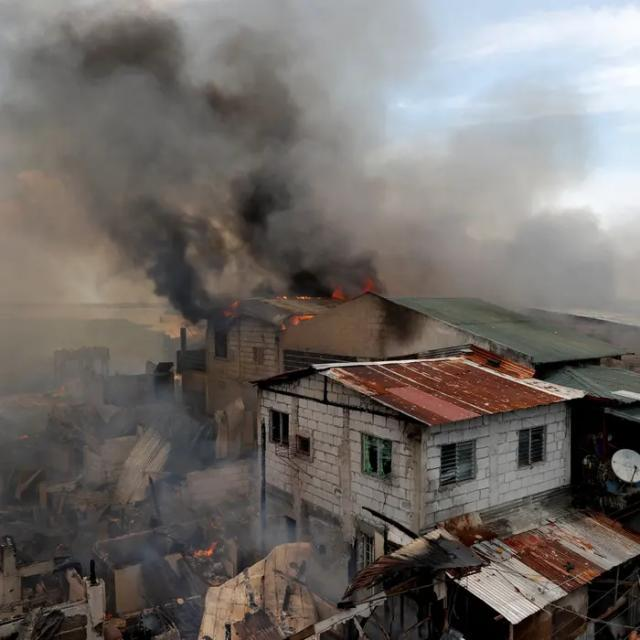Smoke: (0, 6, 462, 325)
